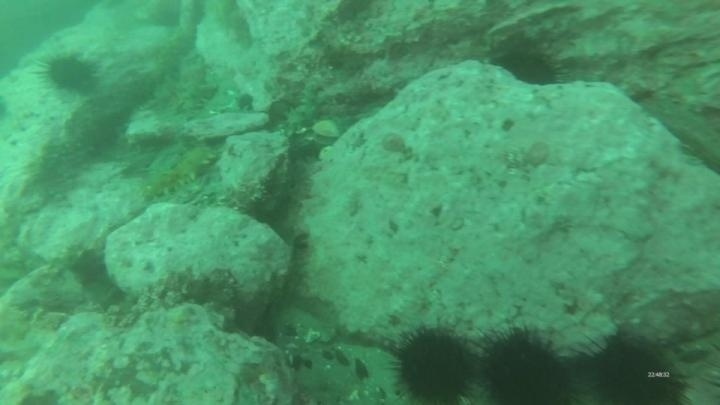echinus: (477, 327, 577, 404), (587, 332, 689, 404), (389, 325, 478, 404), (493, 42, 564, 88), (40, 51, 101, 96)
holothurian: (140, 142, 220, 205), (173, 51, 217, 117)
